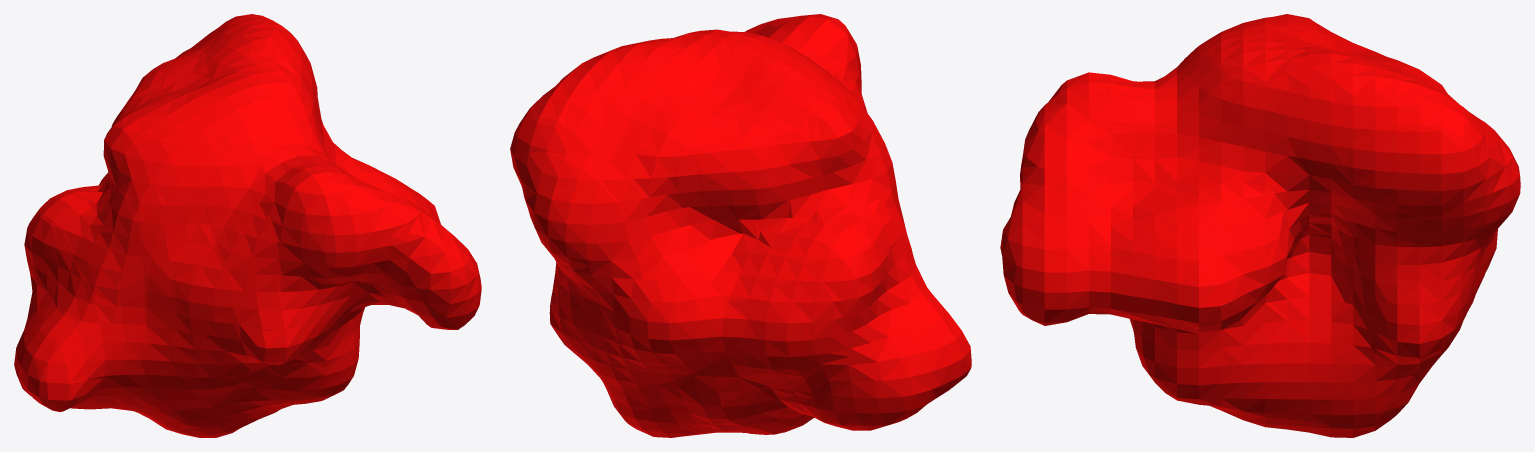
The model's file is mnaT_coarse.dae.
3 renders of one model, left to right at view 1: azimuth 30°, elevation 25°; view 2: azimuth 150°, elevation 25°; view 3: azimuth 270°, elevation 25°, orthographic. The views are drawn at different scales.
Parts seen in each view (by area): view 1: mnaT; view 2: mnaT; view 3: mnaT.
Boxes of the visible parts, x1,y1,x2,y2 form: mnaT: (14, 14, 481, 437); mnaT: (510, 14, 971, 437); mnaT: (1000, 14, 1520, 437).
Bounding box in the file's own units: 48.66 × 43.66 × 51.72.
